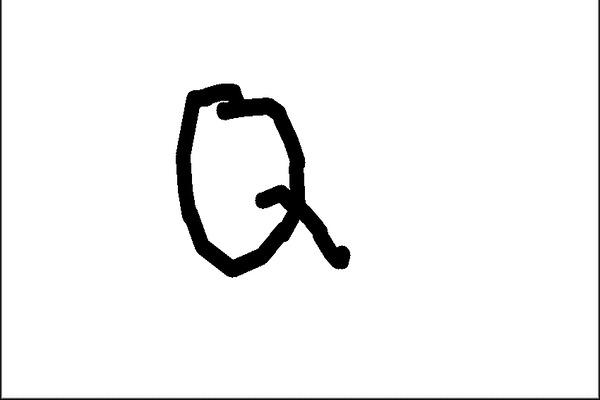Q: (143, 77, 360, 281)
